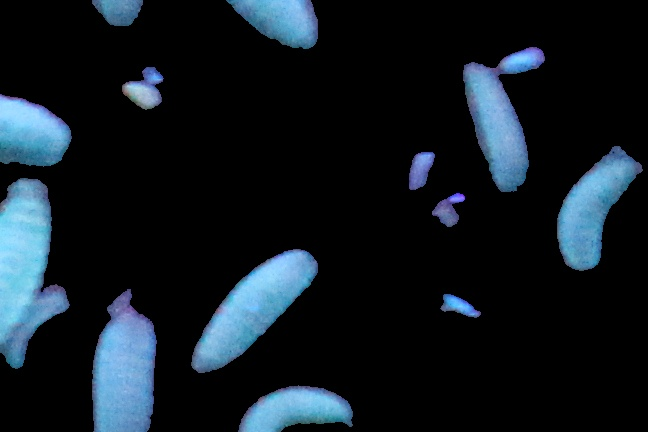larvae: (191, 247, 320, 375), (558, 148, 641, 270), (1, 178, 53, 367), (463, 60, 529, 192), (89, 312, 157, 432), (1, 90, 72, 169), (237, 388, 358, 432), (222, 1, 320, 52)
